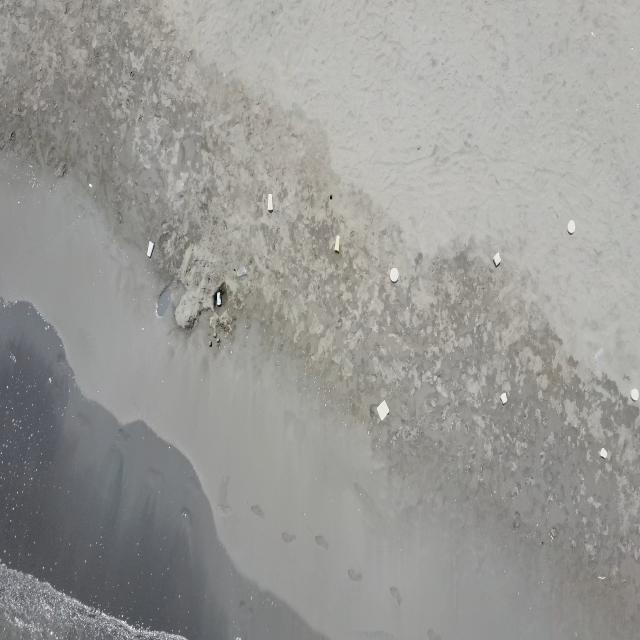take-away-containers: (377, 399, 390, 421), (630, 387, 640, 403), (390, 266, 399, 282), (567, 219, 576, 234), (492, 253, 502, 265), (600, 447, 608, 461), (500, 391, 507, 406)
takeaway-cup: (146, 239, 154, 259), (594, 348, 604, 363), (267, 193, 274, 212), (334, 234, 340, 255), (237, 266, 247, 277), (216, 291, 222, 307)
